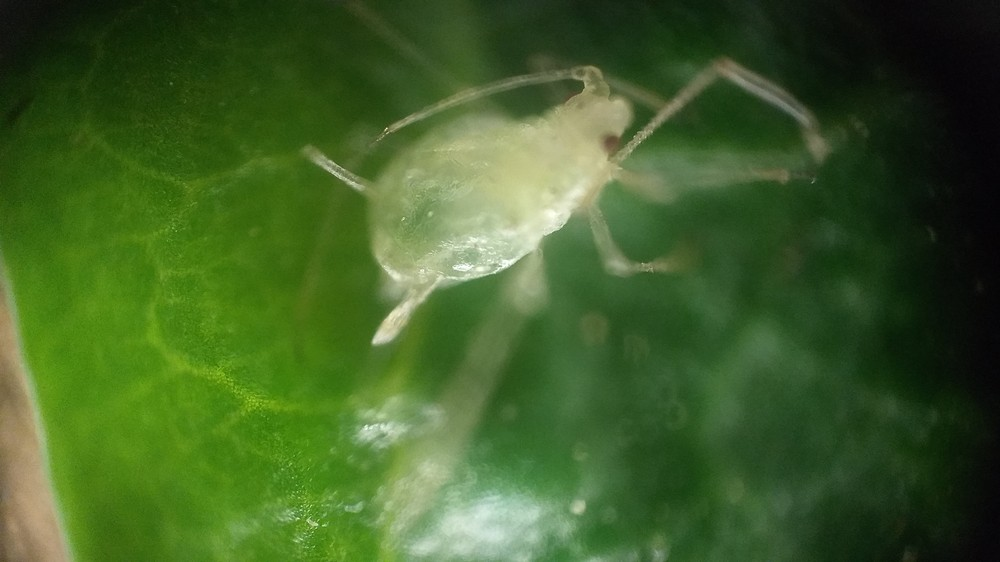Pulgon: (304, 9, 828, 342)
